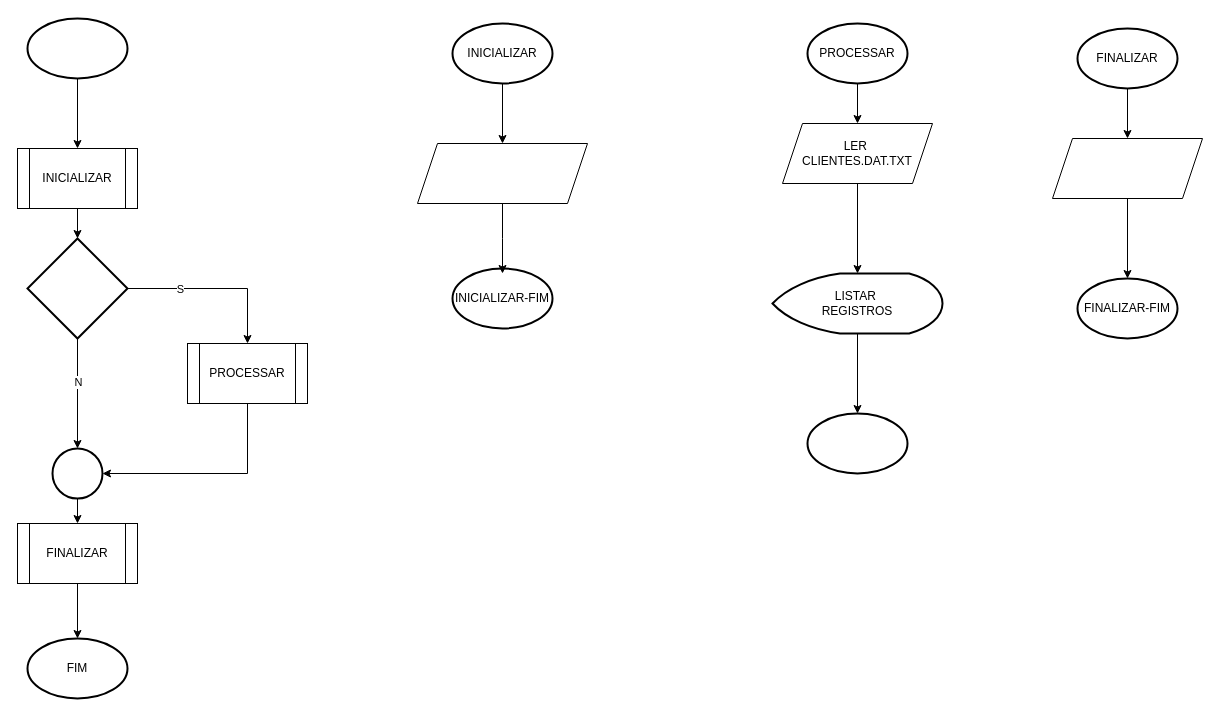
Image size: 1220x716. Some labels were removed from this diagram. Each missing label, with the centre of its shape:
"ABRIR CLIENTES.DAT.TXT" belongs at pixel 502 173.
"CLEITNES EXISTE" belongs at pixel 77 288.
"FECHAR CLIENTES.DAT.TXT" belongs at pixel 1127 168.
"INICIAR" belongs at pixel 77 48.
"PROCESSAR-FIM" belongs at pixel 857 443.
